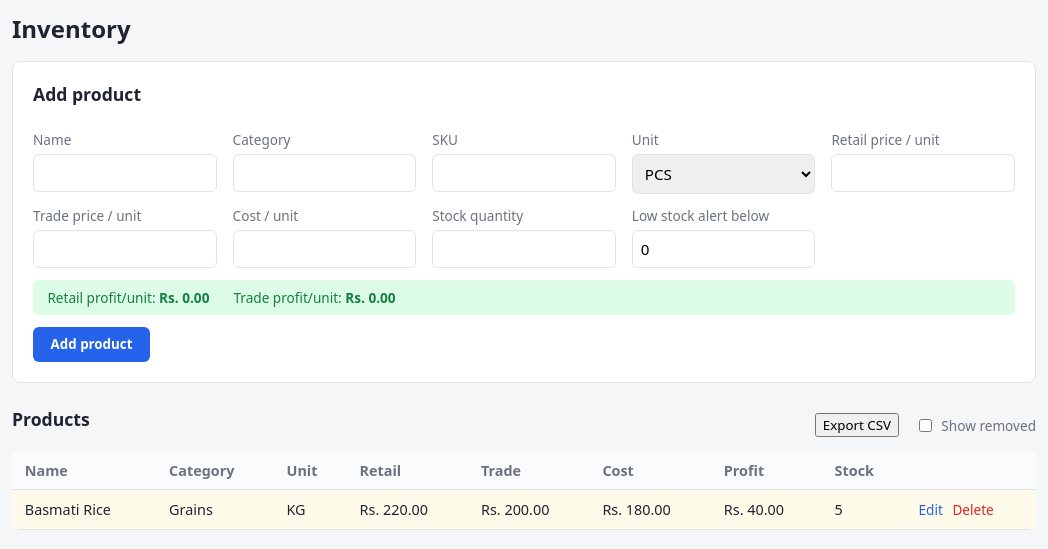
Scenario: Inventory page › cancels an in-progress edit, resetting the form
The width and height of the screenshot is (1048, 549).
Expected: the text "Basmati Rice" is shown, [12,490,156,530]
Click the button "Edit" at (931, 510), box [918,500,943,519]
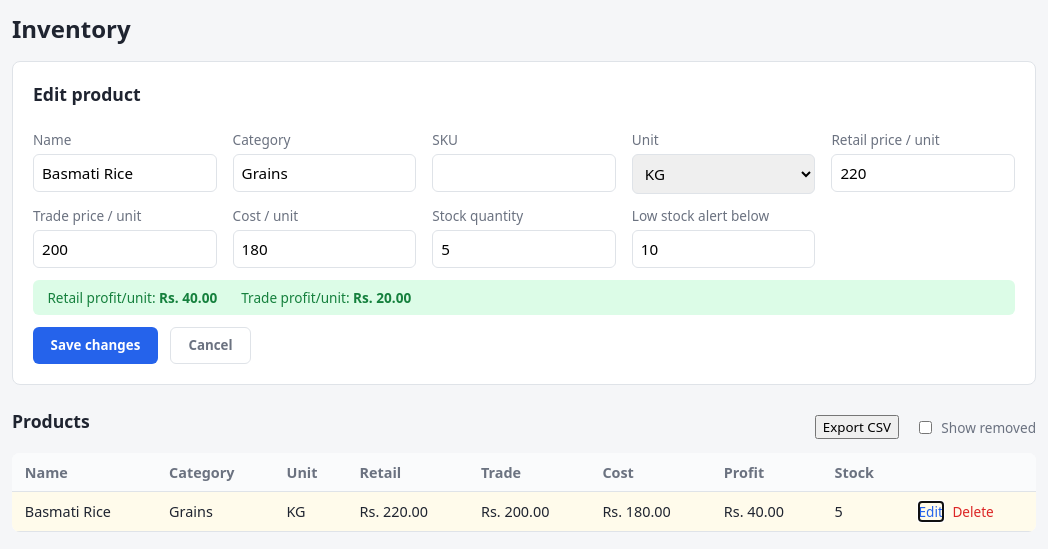
Result: the heading "Edit product" is shown at [33,82,141,106]
Click the button "Cancel" at (211, 345), box [170,327,251,364]
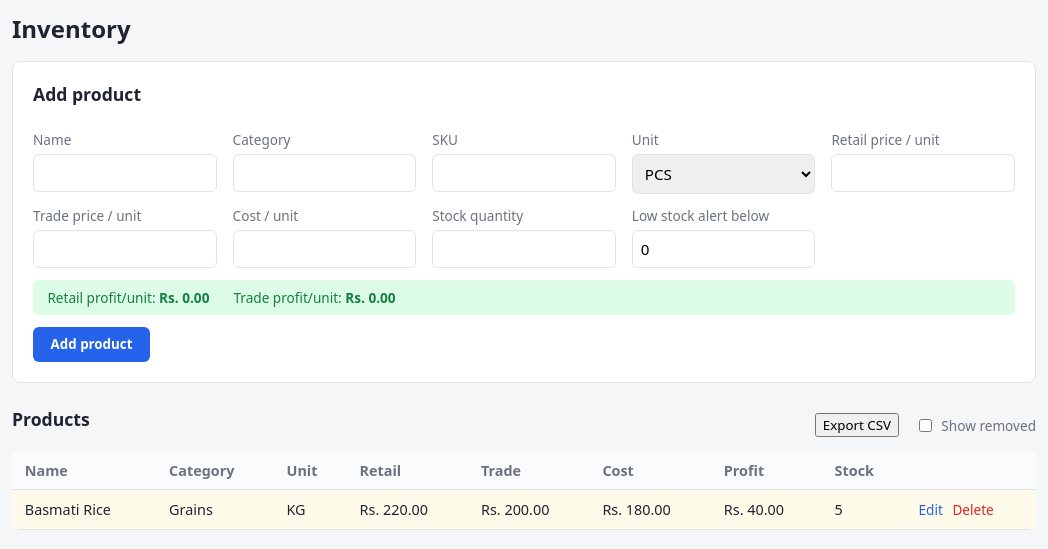
Result: the heading "Add product" is shown at [33,82,141,106]
Result: the field labelled "Name" is empty at [33,154,217,192]
